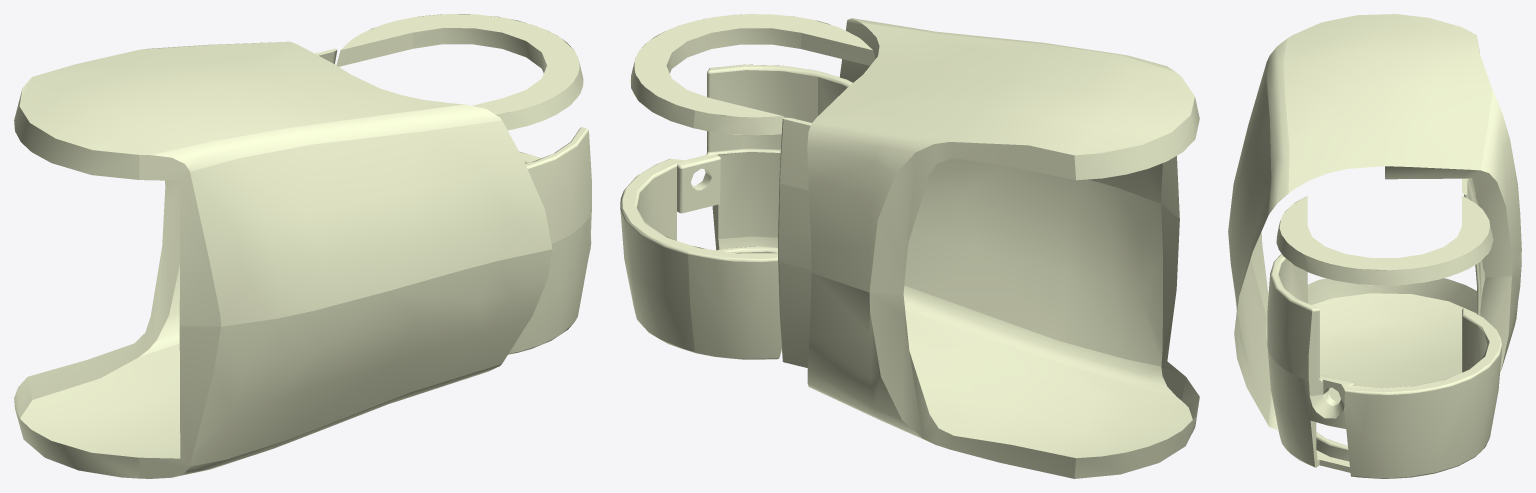
The model's file is finger_middle.dae.
The picture shows the model from 3 angles, left to right: view 1: azimuth 30°, elevation 25°; view 2: azimuth 150°, elevation 25°; view 3: azimuth 270°, elevation 25°; orthographic projection. The views are drawn at different scales.
Parts seen in each view (by area): view 1: ShapeIndexedFaceS_013; view 2: ShapeIndexedFaceS_013; view 3: ShapeIndexedFaceS_013.
Part boxes in pixels (x1=…): ShapeIndexedFaceS_013: x1=14, y1=14, x2=591, y2=478; ShapeIndexedFaceS_013: x1=620, y1=14, x2=1199, y2=478; ShapeIndexedFaceS_013: x1=1228, y1=14, x2=1521, y2=478.
Size of the model in its own units: 0.0525 by 0.0285 by 0.0313.
